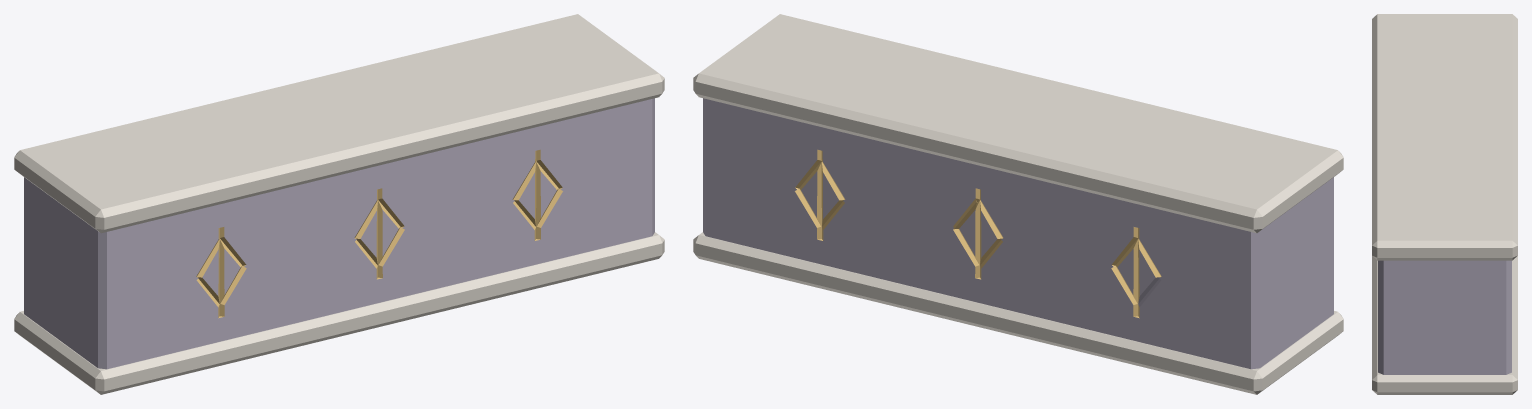
Rendered from cover_bar.glb.
3 renders of one model, left to right at view 1: azimuth 30°, elevation 25°; view 2: azimuth 150°, elevation 25°; view 3: azimuth 270°, elevation 25°, orthographic. The views are drawn at different scales.
Visible parts, largest first — view 1: CarvedStone, Capstone, Footing; view 2: CarvedStone, Capstone, Footing; view 3: Capstone, CarvedStone, Footing.
Boxes of the visible parts, x1=… form: CarvedStone: x1=24, y1=98, x2=654, y2=369; Capstone: x1=14, y1=14, x2=664, y2=233; Footing: x1=14, y1=232, x2=664, y2=394; CarvedStone: x1=703, y1=98, x2=1333, y2=369; Capstone: x1=693, y1=14, x2=1343, y2=233; Footing: x1=693, y1=232, x2=1343, y2=394; Capstone: x1=1372, y1=14, x2=1517, y2=260; CarvedStone: x1=1378, y1=260, x2=1511, y2=374; Footing: x1=1372, y1=256, x2=1517, y2=394.
Bounding box in the file's own units: 4.5 × 1.4 × 1.2.
